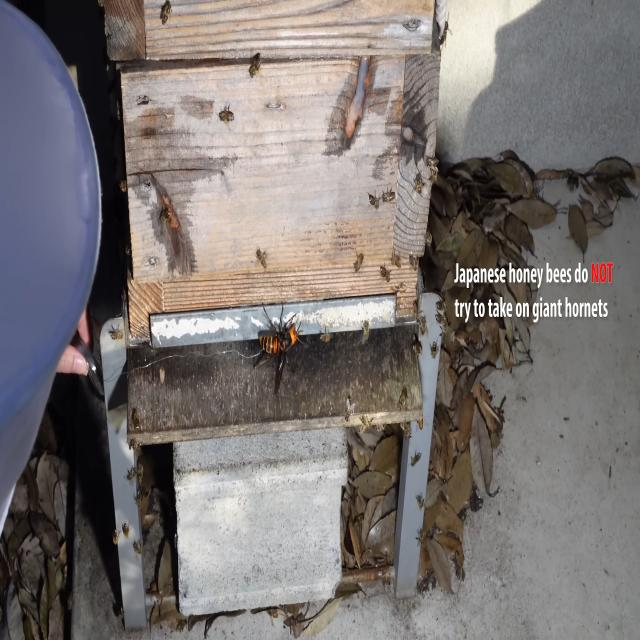Bees: (216, 104, 234, 124), (344, 397, 356, 425), (255, 246, 268, 271), (106, 323, 124, 341), (412, 171, 426, 194), (380, 184, 396, 204), (126, 436, 142, 456), (160, 0, 172, 26), (123, 466, 137, 488), (249, 54, 261, 79), (130, 407, 142, 431), (352, 251, 365, 273), (378, 260, 391, 282), (412, 298, 422, 326), (359, 411, 373, 430), (368, 188, 380, 210), (409, 449, 422, 469), (398, 388, 408, 412), (412, 335, 422, 358), (361, 319, 370, 344), (429, 338, 439, 360), (424, 154, 438, 169), (175, 617, 188, 633), (320, 327, 333, 343), (133, 488, 143, 508), (434, 311, 447, 325), (416, 491, 425, 511), (428, 168, 438, 186), (416, 526, 424, 548), (266, 606, 278, 620), (122, 520, 130, 540), (436, 298, 447, 312)
Hornets: (251, 295, 307, 404)
